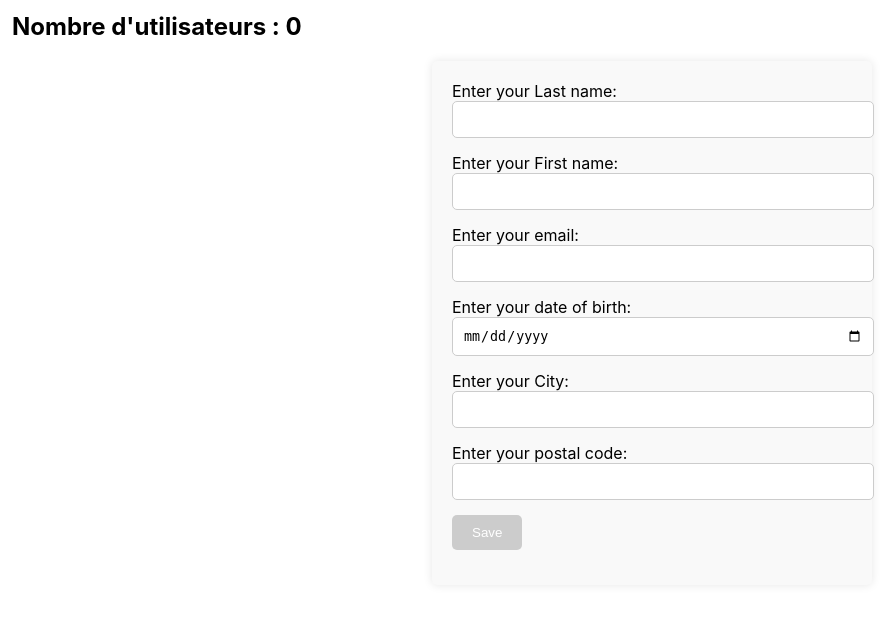
Test case: Form › blocks under 18 years old in the date input
Note: Date valide (-19 ans)
Type "2005-01-01" into the date field labelled "Enter your date of birth:".
click(663, 337); type("2005-01-01")  # box x1=452 y1=317 x2=874 y2=356
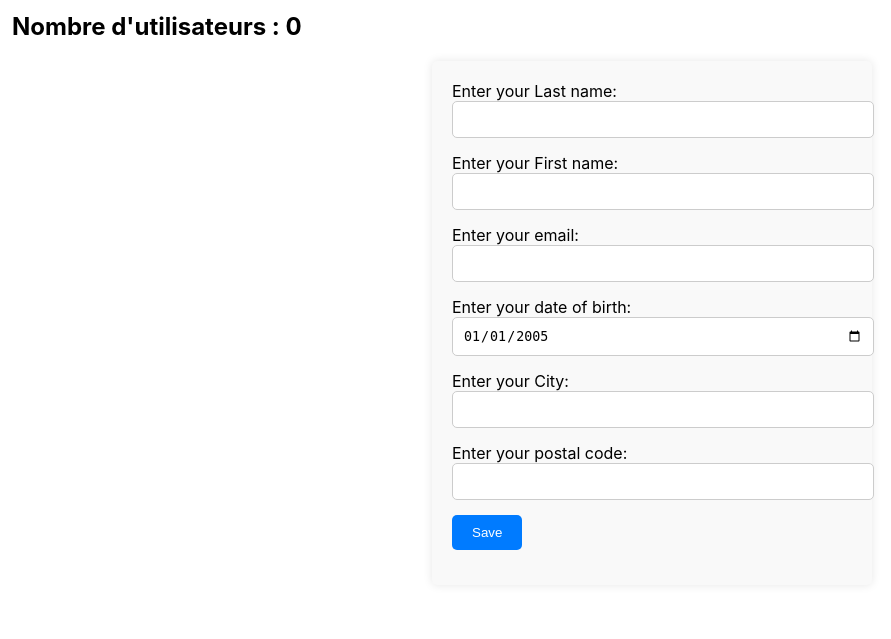
Expected: the text "Vous devez avoir au moins 18 ans." is not shown
Note: Date invalide (-17 ans)
Type "2008-01-01" into the date field labelled "Enter your date of birth:".
click(663, 337); type("2008-01-01")  # box x1=452 y1=317 x2=874 y2=356
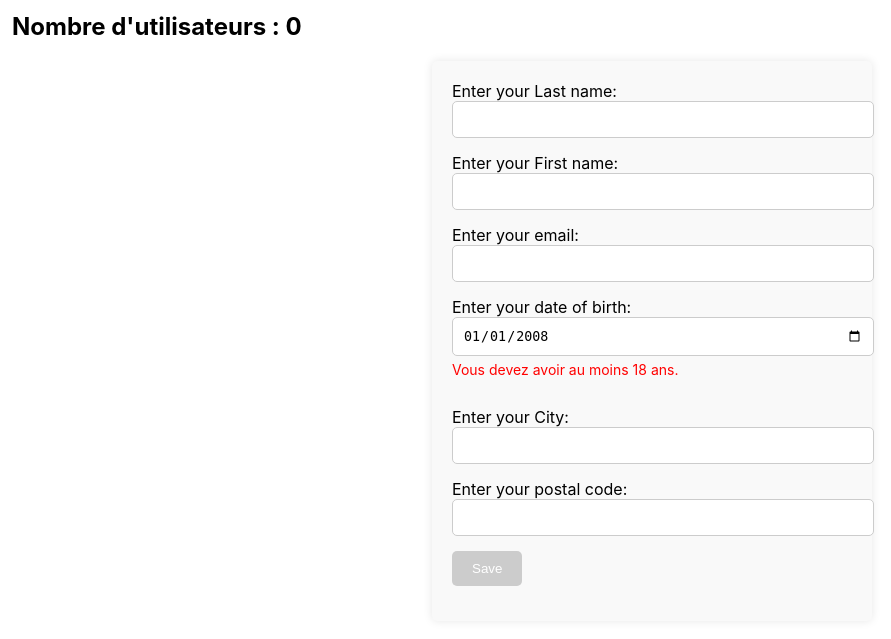
Result: the text "Vous devez avoir au moins 18 ans." is shown at x1=452 y1=361 x2=678 y2=378
